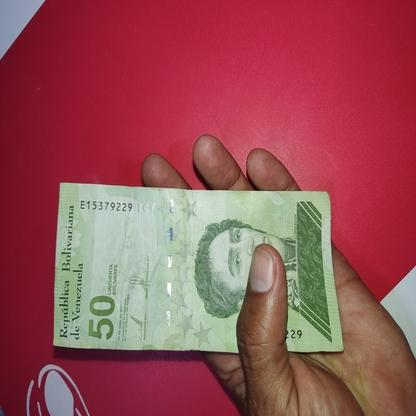vef_front: (52, 182, 344, 352)
